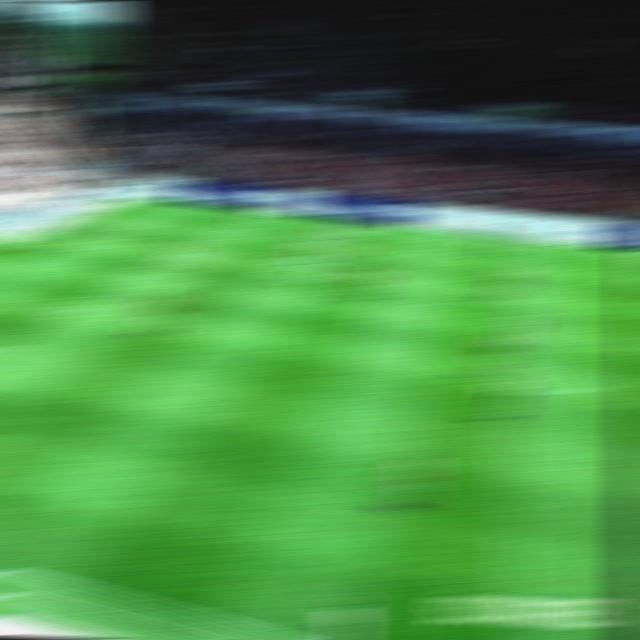bigarea_top_inner: (181, 230, 212, 240)
bigarea_top_outter: (61, 216, 92, 226)
bottom_arc_area_intersection: (49, 305, 85, 318)
corner: (114, 195, 146, 206)
halfcircle_bottom: (488, 382, 531, 397)
halfcircle_top: (492, 298, 523, 310)
midline_top_intersection: (490, 236, 522, 243)
smallarea_top_inner: (47, 242, 79, 254)
smallarea_top_outter: (6, 237, 38, 249)
top_arc_area_intersection: (131, 259, 163, 270)
